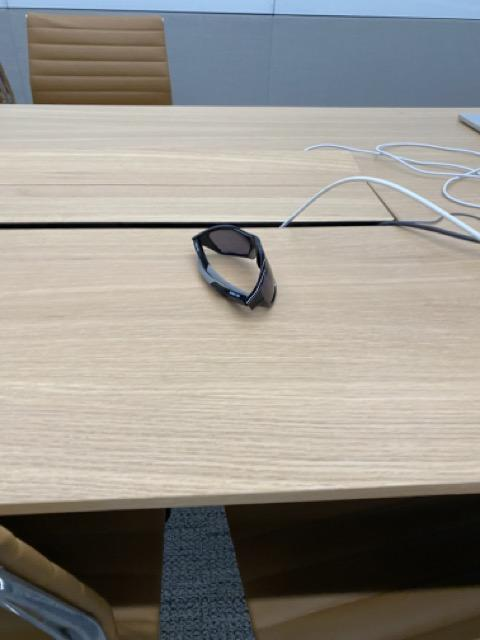Sunglasses: (193, 223, 279, 312)
